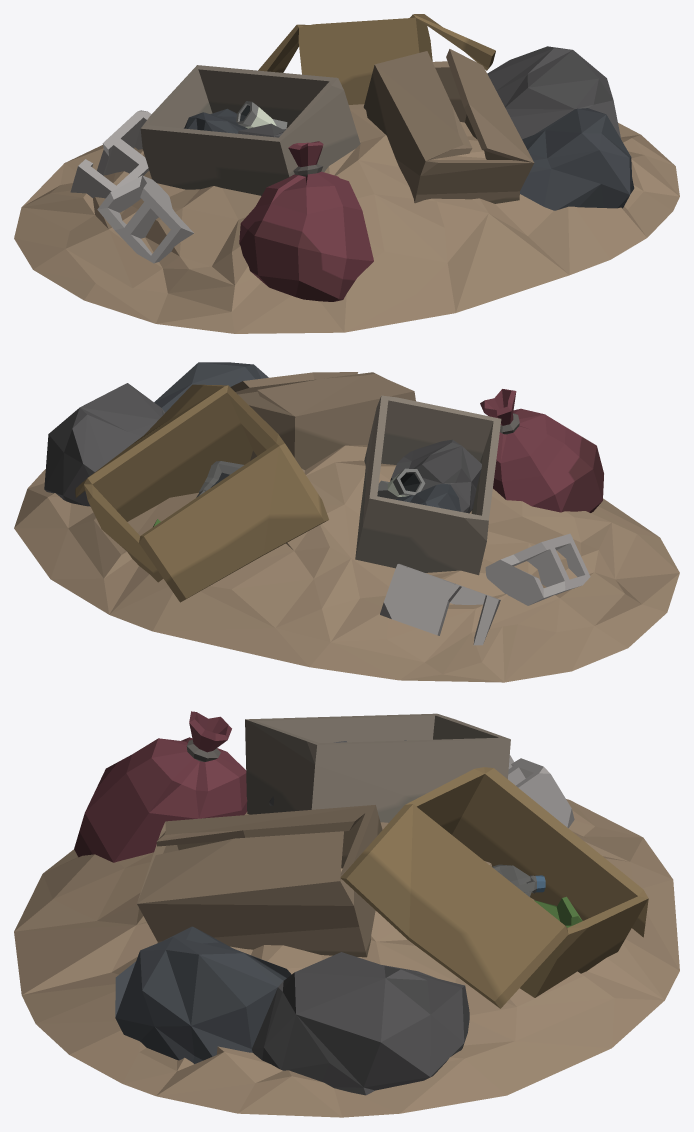
File: SM_Prop_Rubbish_Pile_02.glb
3 renders of one model, top to bottom at view 1: azimuth 30°, elevation 25°; view 2: azimuth 150°, elevation 25°; view 3: azimuth 270°, elevation 25°, orthographic. The views are drawn at different scales.
Parts seen in each view (by area): view 1: SM_Prop_Rubbish_Pile_02; view 2: SM_Prop_Rubbish_Pile_02; view 3: SM_Prop_Rubbish_Pile_02.
Part boxes in pixels (<box>): SM_Prop_Rubbish_Pile_02: <box>14,14,679,333</box>; SM_Prop_Rubbish_Pile_02: <box>14,362,679,682</box>; SM_Prop_Rubbish_Pile_02: <box>14,711,679,1117</box>.
Size of the model in its own units: 2.82 by 0.7919 by 2.2.
Materials: 1 (1 with a texture image).
